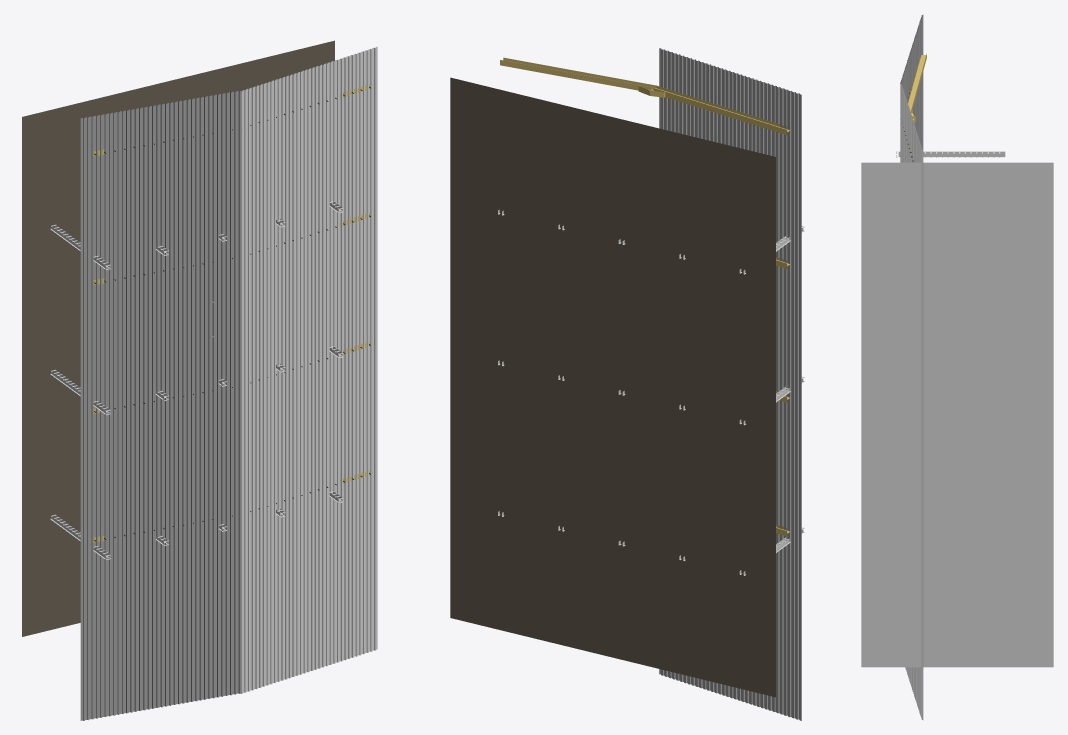
File: souko_env.glb
3 renders of one model, left to right at view 1: azimuth 30°, elevation 25°; view 2: azimuth 150°, elevation 25°; view 3: azimuth 270°, elevation 25°, orthographic. The views are drawn at different scales.
Visible parts, largest first — view 1: Plane.021, Plane.039, Ground, pole_1, Cylinder.002; view 2: Ground, Plane.021, Cylinder.002, pole_1; view 3: Plane.015, Plane.039, Plane.021, pole_1, Cylinder.002.
Part boxes in pixels (x1,y1,x2,y2): Plane.021: (80,91,240,720); Plane.039: (240,46,377,693); Ground: (22,40,334,636); pole_1: (50,201,343,560); Cylinder.002: (93,84,370,542); Ground: (450,77,775,697); Plane.021: (659,48,801,720); Cylinder.002: (500,57,789,536); pole_1: (498,209,804,575); Plane.015: (861,162,1053,667); Plane.039: (900,84,923,720); Plane.021: (900,14,923,150); pole_1: (896,151,1005,157); Cylinder.002: (903,53,926,161).
Bounding box in the file's own units: 40.64 × 74.57 × 22.81.
